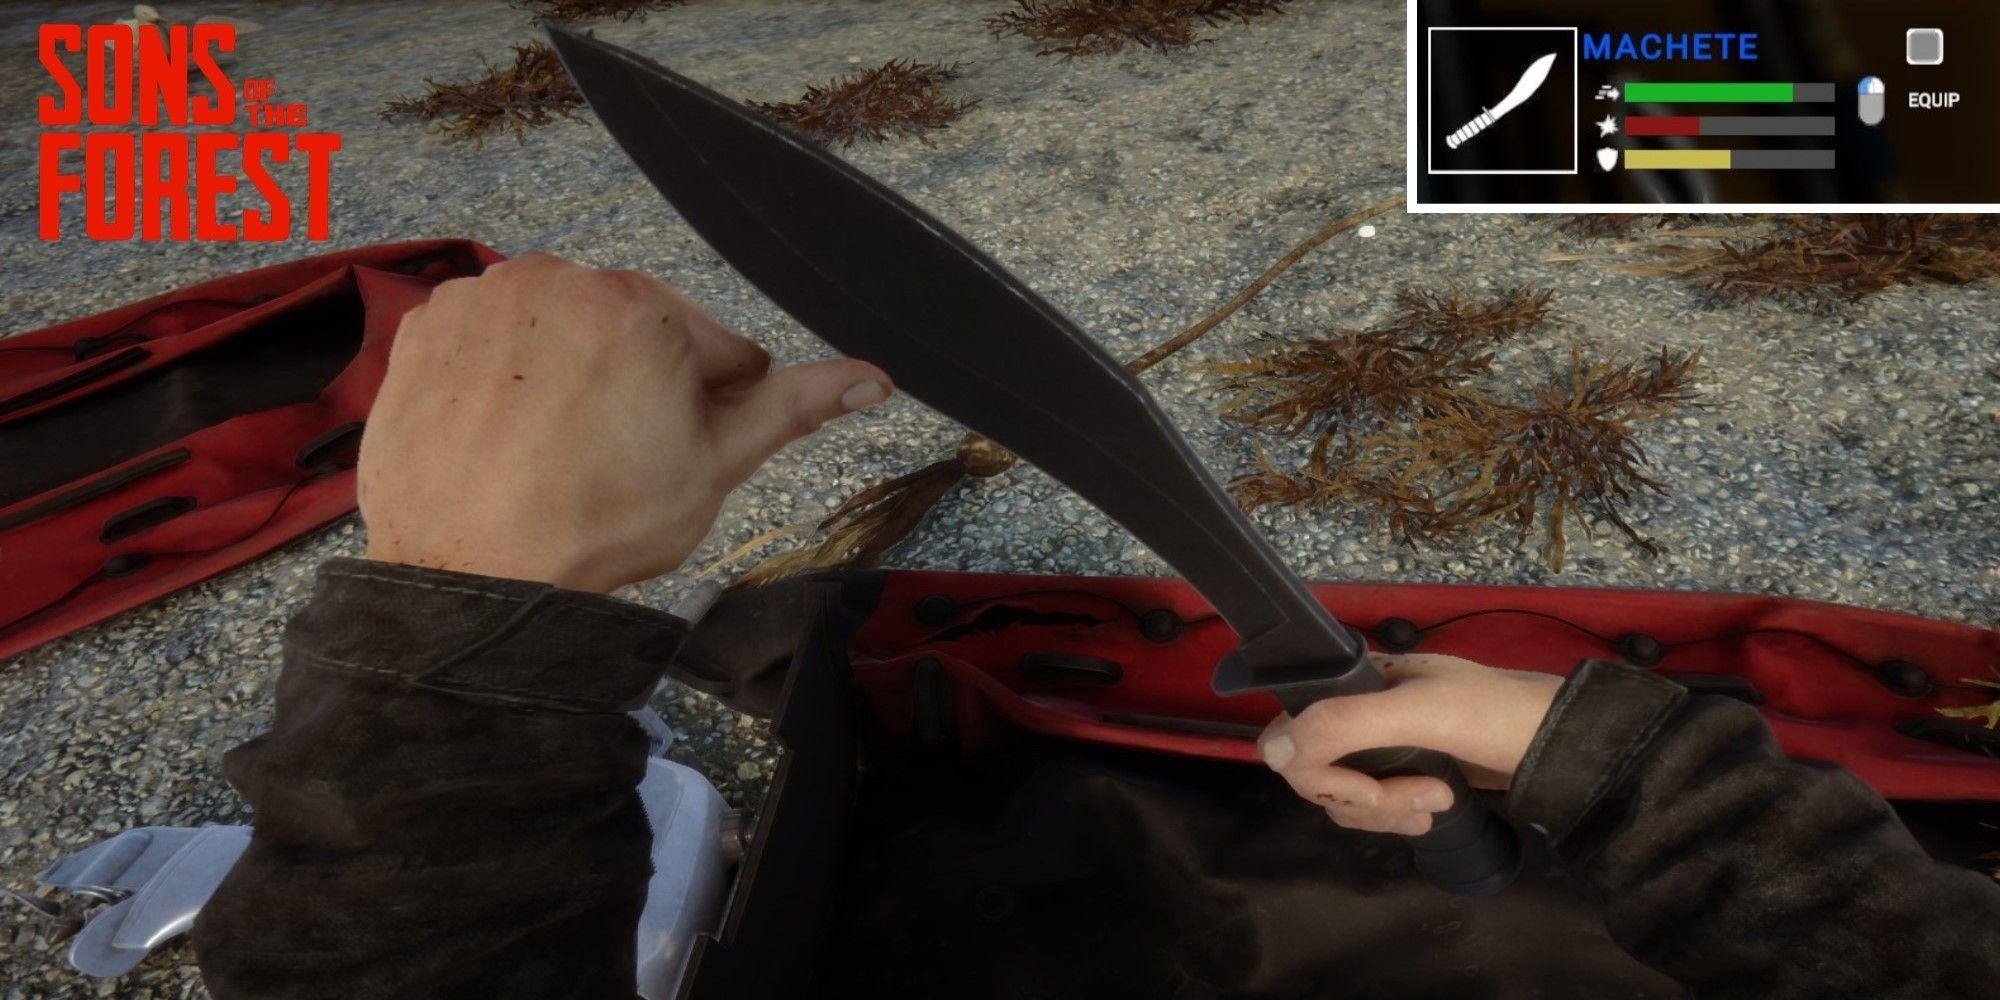facao: (527, 3, 1416, 833)
